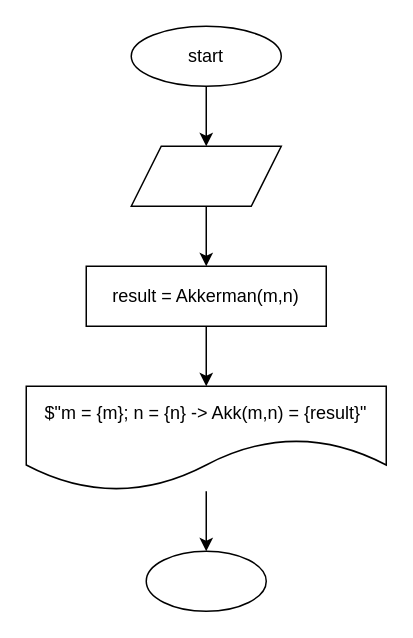
Some shapes in this 413 by 638 pixel diagram are drawn without their labels. Each missing label, with the centre of its shape:
end: point 205,580
m,n: point 205,175
